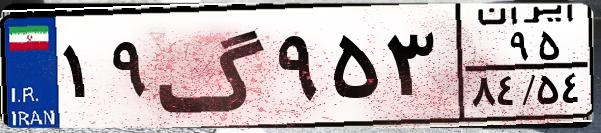1: (57, 26, 110, 100)
3: (385, 28, 445, 110)
4: (560, 70, 590, 125), (495, 70, 520, 125)
5: (330, 28, 385, 110), (537, 27, 568, 80), (535, 70, 560, 125)
8: (470, 70, 495, 125)
9: (270, 28, 330, 110), (110, 28, 156, 98), (508, 27, 537, 80)
گ: (156, 12, 270, 120)
